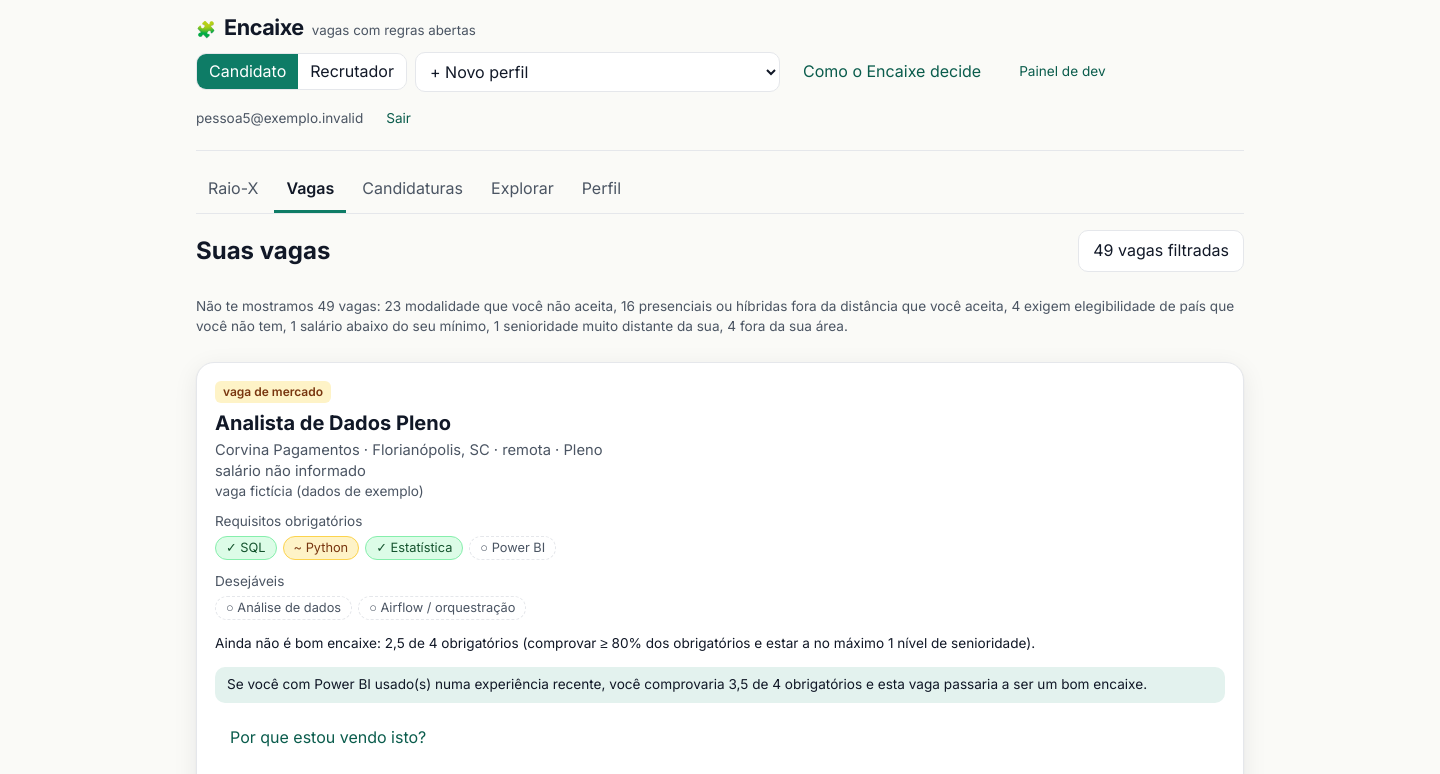
Scenario: candidate screens › deck shows the explanation only on demand
The width and height of the screenshot is (1440, 774).
Check: the text "A posição compara esta vaga" is not shown
Step 1. Click the button "Por que estou vendo isto?" → (328, 737), box [215,717,441,758]
(page scrolled)
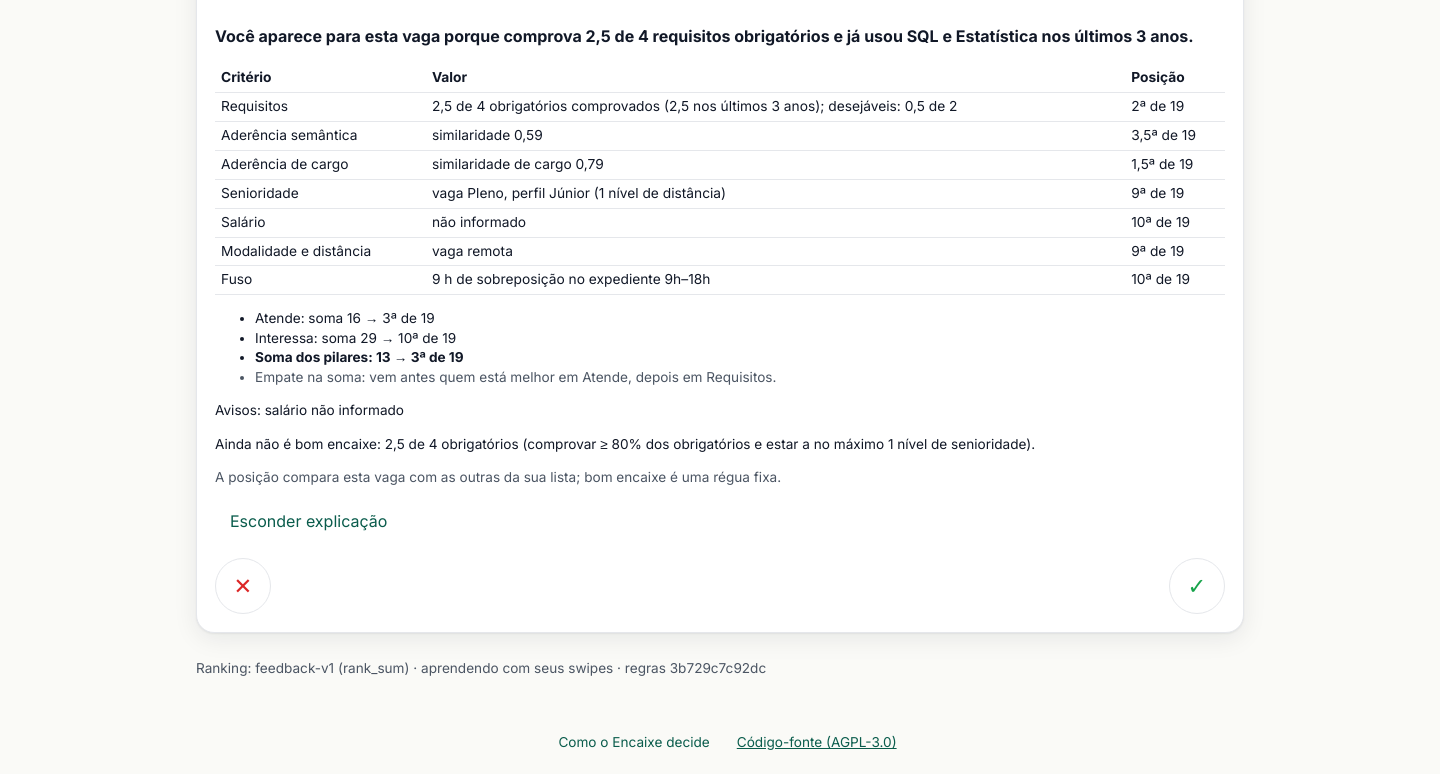
Check: the text "A posição compara esta vaga" is shown, box [215,469,781,485]
